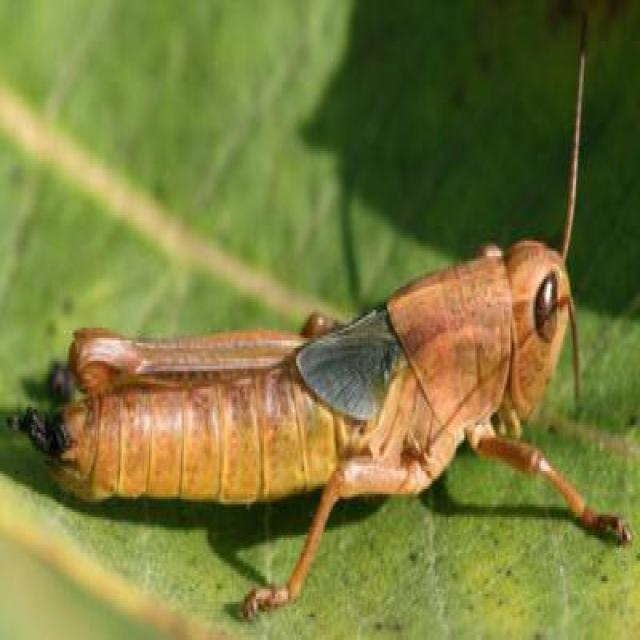antennae: (560, 8, 590, 264), (562, 296, 586, 415)
body: (8, 232, 564, 517)
insect: (8, 3, 630, 610)
legs: (244, 423, 402, 607), (464, 414, 628, 544)
mouthpart: (494, 392, 538, 434)
wings: (278, 316, 412, 420)
